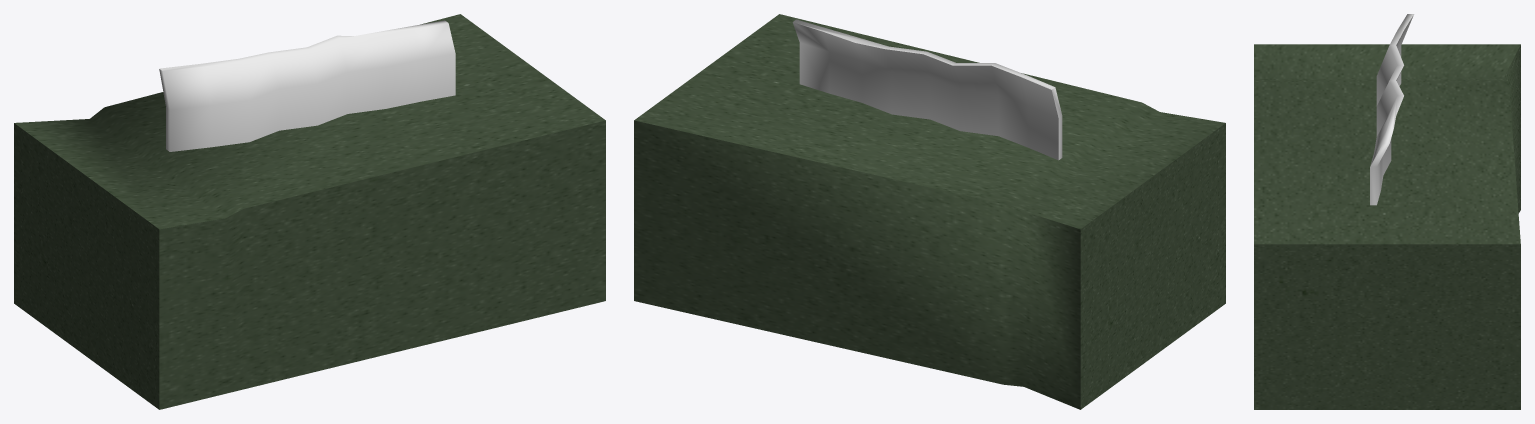
File: napkins.fbx
The picture shows the model from 3 angles, left to right: view 1: azimuth 30°, elevation 25°; view 2: azimuth 150°, elevation 25°; view 3: azimuth 270°, elevation 25°; orthographic projection. The views are drawn at different scales.
Visible parts, largest first — view 1: Cube.030; view 2: Cube.030; view 3: Cube.030.
Part boxes in pixels (x1=…): Cube.030: x1=14, y1=14, x2=605, y2=409; Cube.030: x1=634, y1=14, x2=1225, y2=409; Cube.030: x1=1254, y1=14, x2=1520, y2=409.
Size of the model in its own units: 50.23 by 27.54 by 28.33.
